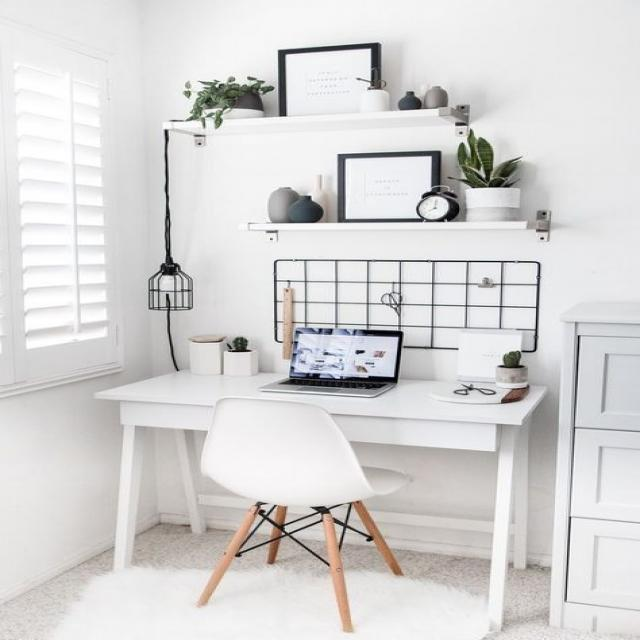mobile-phone: (138, 23, 558, 405)
